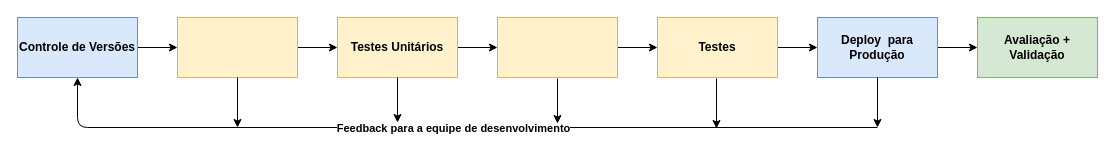
The diagram is 1115 pixels wide and 154 high, and some of its shapes have lost their labels. Here are the shapes that lost their labels. From the top down, the centre of each, then its label:
point (237, 47): Build
point (557, 47): Deploy
